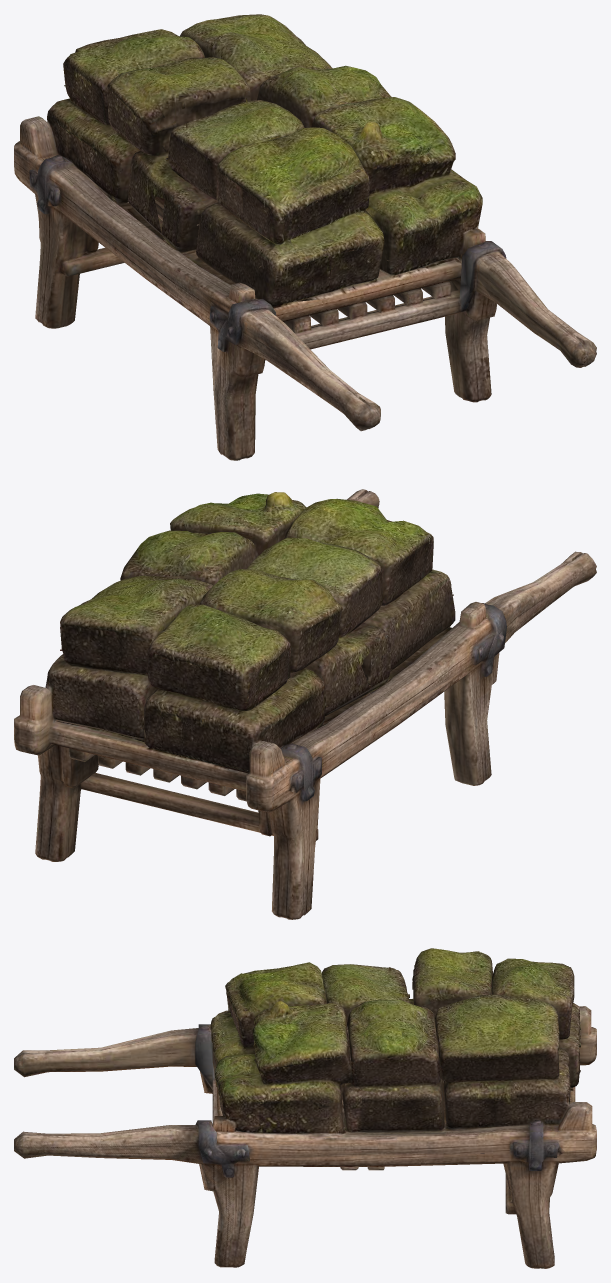
Rendered from kit_lw_turf_barrow.glb.
3 renders of one model, top to bottom at view 1: azimuth 30°, elevation 25°; view 2: azimuth 150°, elevation 25°; view 3: azimuth 270°, elevation 25°, orthographic. The views are drawn at different scales.
Parts seen in each view (by area): view 1: kit_lw_turf_barrow; view 2: kit_lw_turf_barrow; view 3: kit_lw_turf_barrow.
Part boxes in pixels (x1,y1,x2,y2): kit_lw_turf_barrow: (14,14,596,460); kit_lw_turf_barrow: (14,489,596,919); kit_lw_turf_barrow: (14,948,596,1268).
Size of the model in its own units: 1.02 by 0.9773 by 2.2.
Materials: 1 (1 with a texture image).
